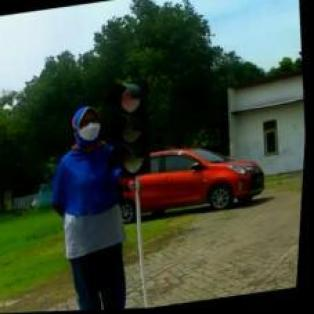Semoforo Rojo: (102, 80, 159, 181)
